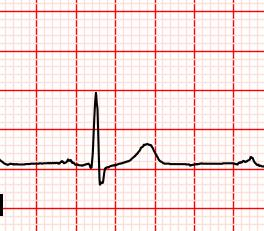ST Depression: (68, 156, 114, 189)
